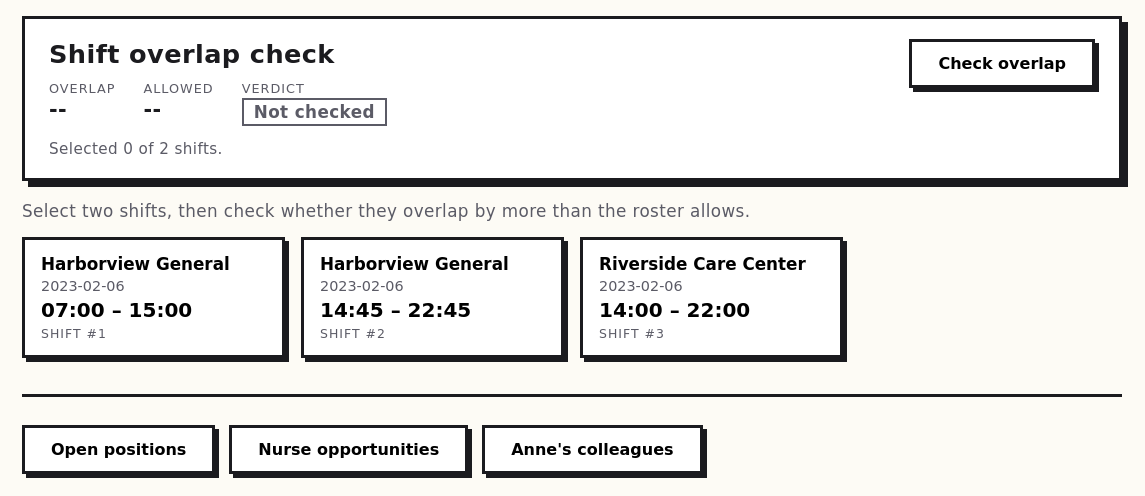
Test: submitting with fewer than two shifts asks for a second one
The image size is (1145, 496).
Click the text "Shift #1" at (74, 334), box [41, 326, 107, 341]
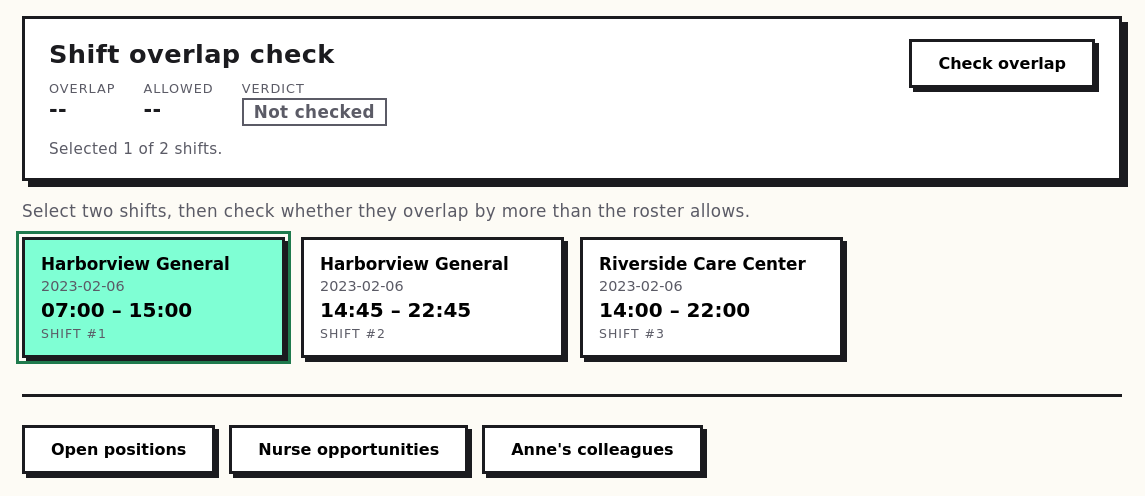
Click the button "Check overlap" at (1002, 64), box [909, 39, 1095, 88]
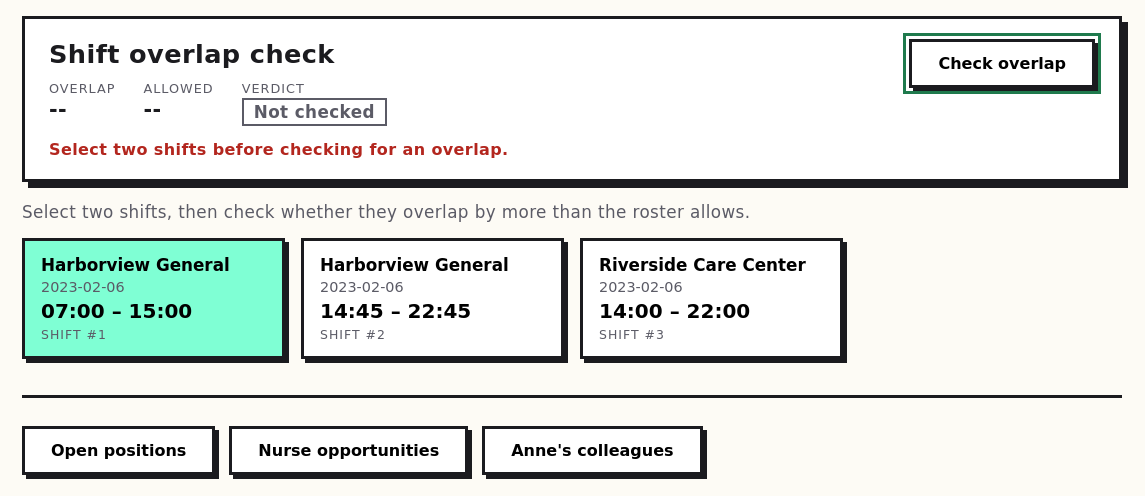
Expected: the message shows "Select two shifts", [49, 140, 509, 159]
